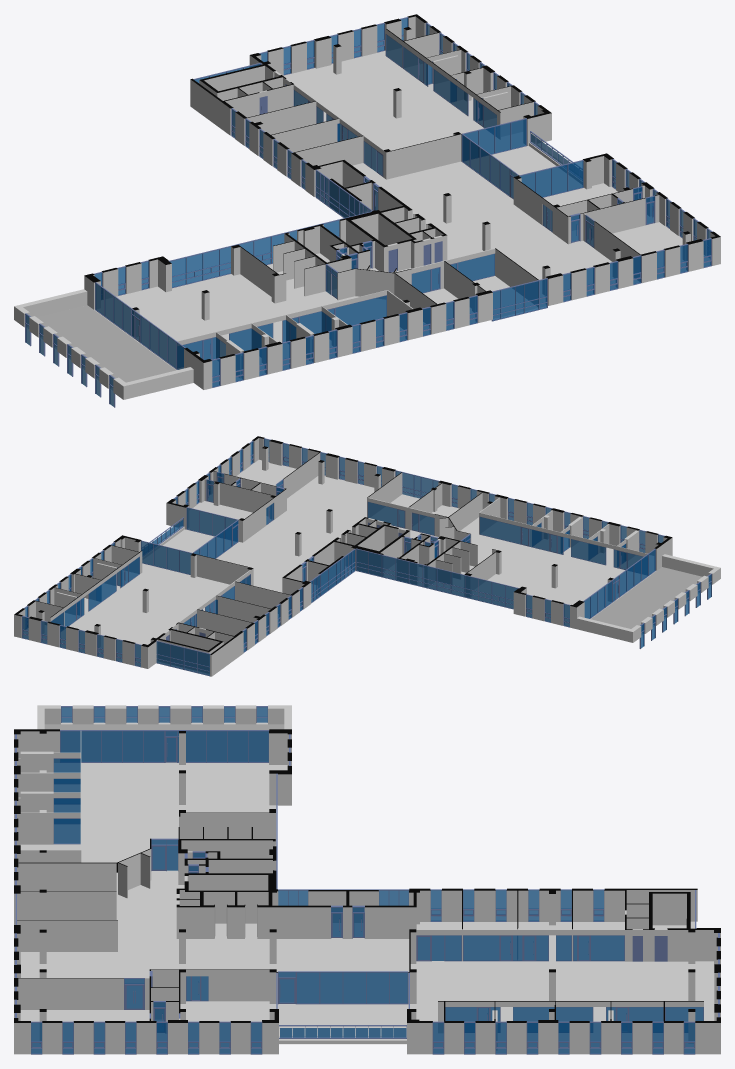
3 renders of one model, top to bottom at view 1: azimuth 30°, elevation 25°; view 2: azimuth 150°, elevation 25°; view 3: azimuth 270°, elevation 25°, orthographic. The views are drawn at different scales.
Visible parts, largest first — view 1: Line203, Line237, 3F, Plane043, Box456, Rectangle078, Box432, Box440, Box455, Box435, Box457, Box437 (+9 smaller); view 2: Line203, Line237, 3F, Box432, Plane043, Rectangle078, Box456, Box440, Box434, Box435, Box437, Box433 (+12 smaller); view 3: Line237, Line203, 3F, Plane043, Box440, Box436, Rectangle078, Box423, Box425, Box419, Box422, Box424 (+14 smaller).
Part boxes in pixels (x1,y1,x2,y2): Line203: (84,14,720,389); Line237: (27,48,709,390); 3F: (14,34,685,377); Plane043: (37,305,175,382); Box456: (212,239,710,386); Rectangle078: (29,316,193,399); Box432: (170,220,339,287); Box440: (95,284,183,369); Box455: (211,238,711,387); Box435: (464,119,526,159); Box457: (493,279,546,320); Box437: (520,161,583,197); Line203: (14,436,672,676); Line237: (23,459,710,674); 3F: (50,448,655,676); Box432: (356,549,517,608); Plane043: (591,567,702,628); Rectangle078: (641,554,720,633); Box456: (264,439,663,552); Box440: (584,550,655,618); Box434: (156,641,209,675); Box435: (141,541,191,574); Box437: (187,508,236,540); Box433: (311,550,354,602); Line237: (20,722,714,1052); Line203: (14,729,720,1054); 3F: (15,705,703,1040); Plane043: (44,724,284,760); Box440: (60,731,268,761); Box436: (278,972,407,1003); Rectangle078: (37,705,256,729); Box423: (433,1023,694,1053); Box425: (31,1023,261,1053); Box419: (431,890,603,921); Box422: (432,1021,695,1054); Box424: (31,1021,262,1054).
Size of the model in its own units: 67.8 by 4.77 by 60.8.
